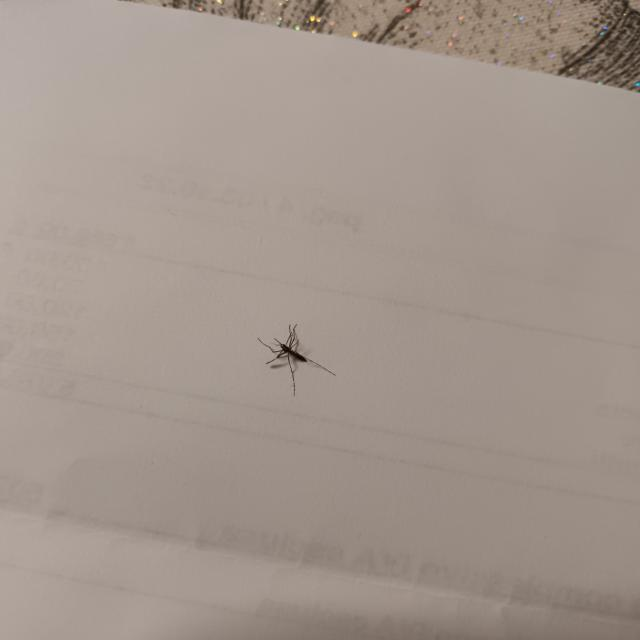albopictus: (250, 316, 342, 397)
